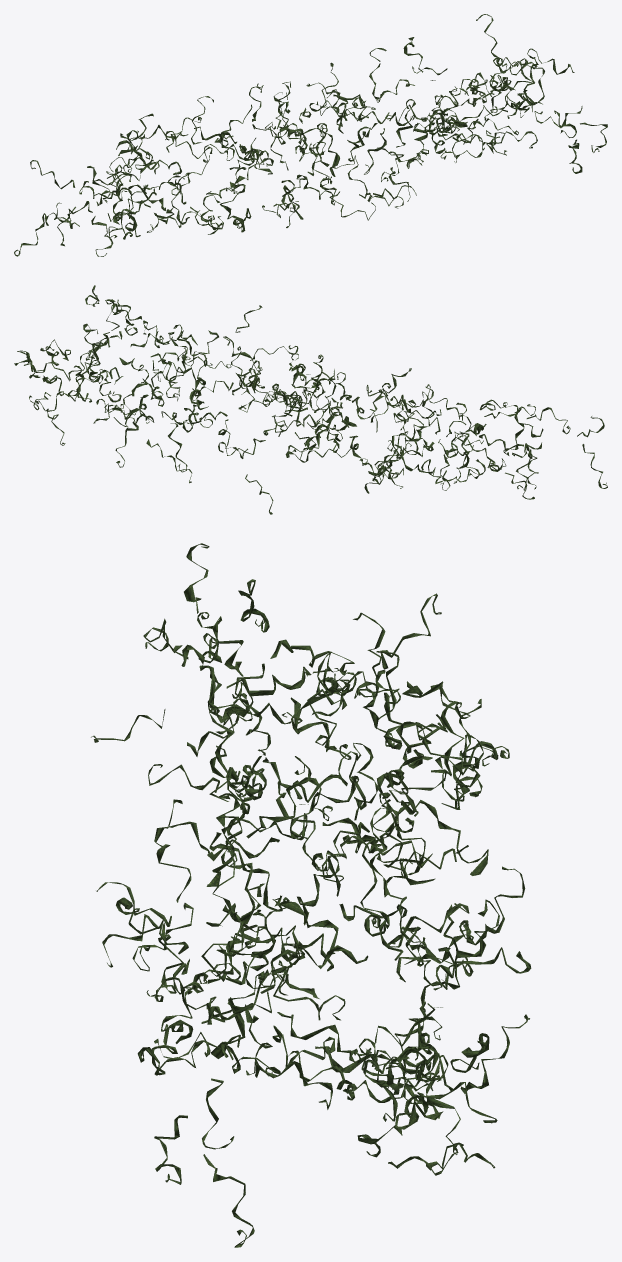
File: branches.obj
3 views of the same model, one above another, from view 1: azimuth 30°, elevation 25°; view 2: azimuth 150°, elevation 25°; view 3: azimuth 270°, elevation 25° (orthographic). The views are drawn at different scales.
Visible parts, largest first — view 1: branches; view 2: branches; view 3: branches.
Part boxes in pixels (x1,y1,x2,y2): branches: [14, 14, 607, 256]; branches: [14, 285, 607, 514]; branches: [91, 543, 531, 1247].
Bounding box in the file's own units: 6.5 × 1.75 × 2.26.
1 material, 1 textured.
